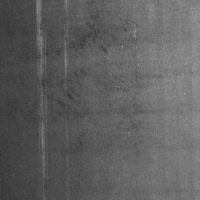scratches: (35, 1, 50, 194)
